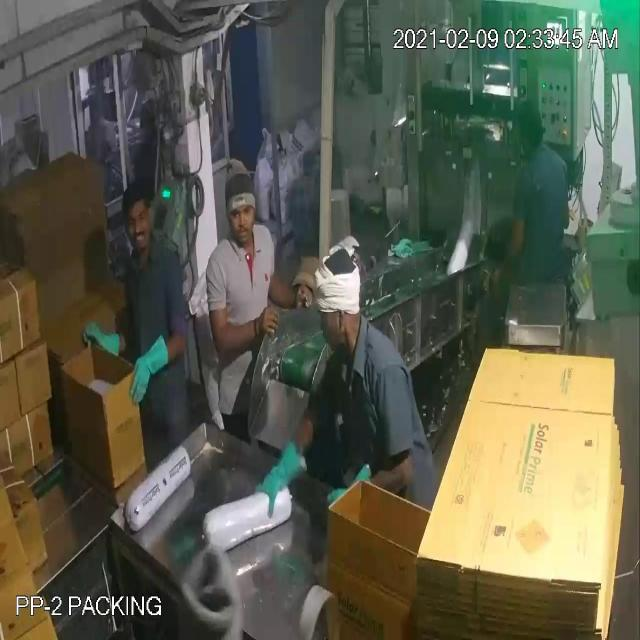gloves: (248, 438, 312, 532), (124, 338, 174, 411), (80, 310, 128, 372)
no-gloves: (206, 287, 282, 359), (488, 206, 535, 304), (266, 255, 316, 324)
